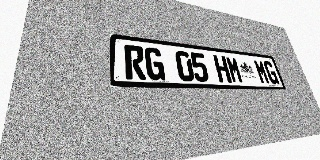0: (174, 50, 195, 82)
5: (190, 52, 210, 82)
G: (144, 47, 166, 81), (263, 61, 280, 84)
H: (213, 55, 232, 83)
M: (225, 56, 244, 83), (253, 59, 271, 84)
R: (124, 44, 146, 80)
